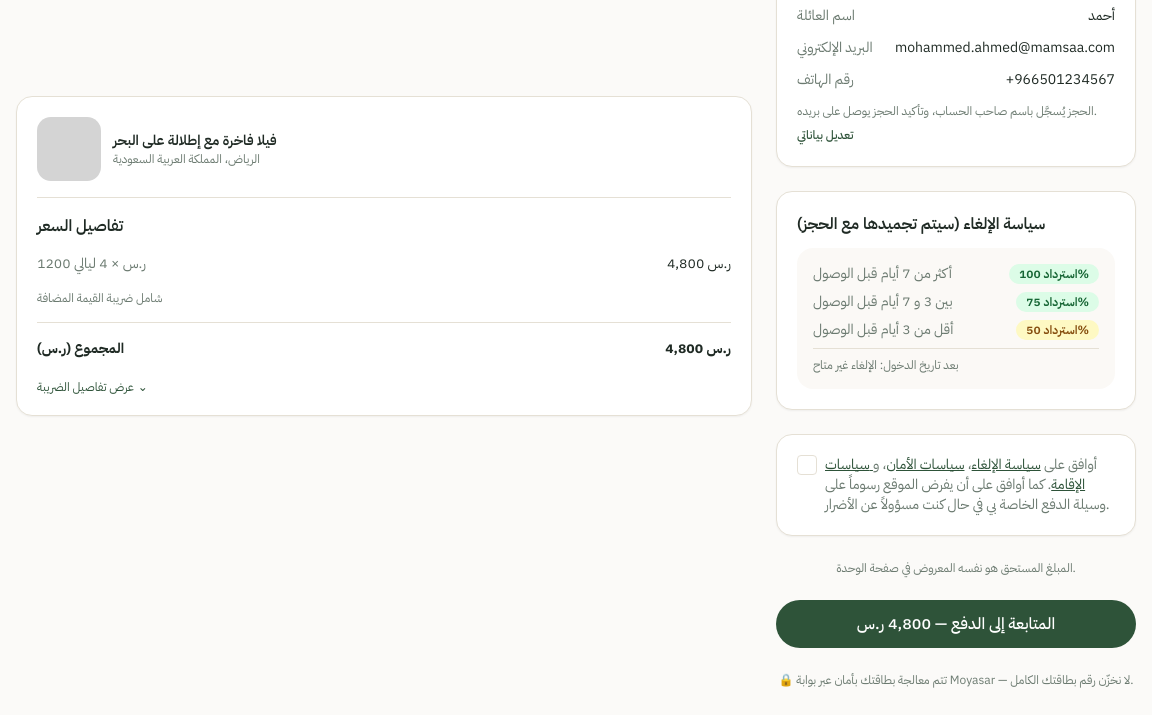
Test: Checkout — a 409 on the dates is an answer, not a failure › shows the dictionary copy when the booking itself is refused for the permit
(page scrolled)
Step 1. Click the checkbox → click(807, 464), box x1=797 y1=454 x2=817 y2=474
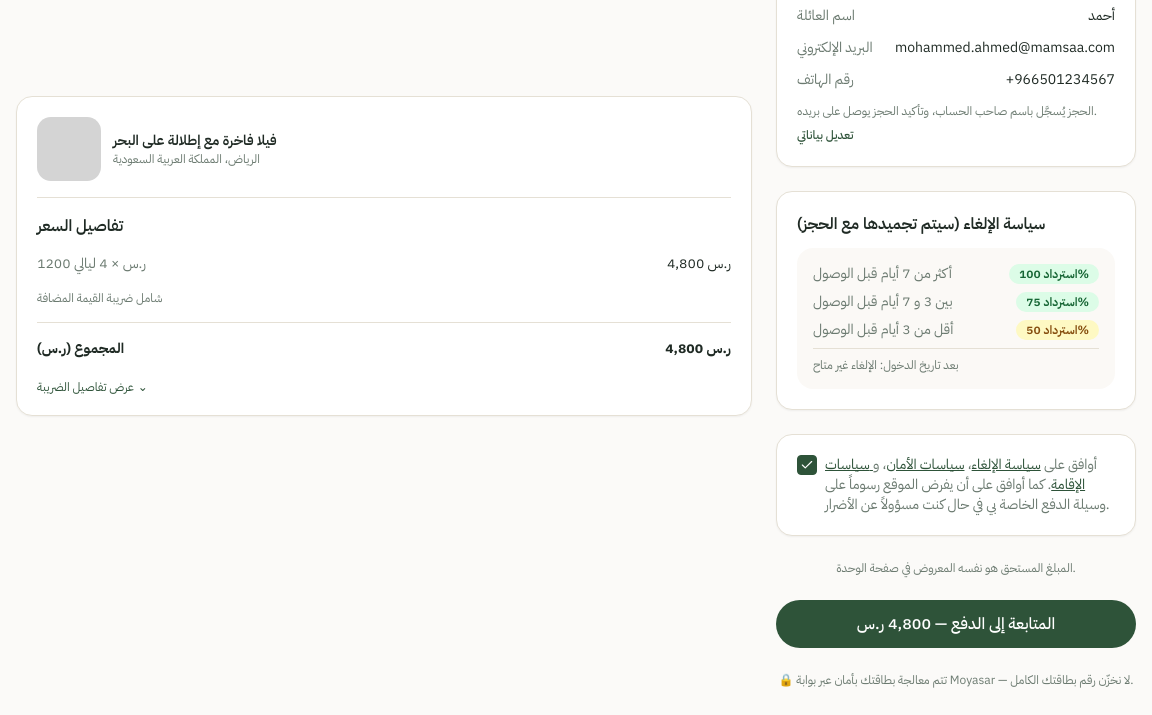
Step 2. Click the button "المتابعة إلى الدفع — 4,800 ر.س" → click(956, 624), box x1=776 y1=600 x2=1136 y2=648
Wait 350 ms
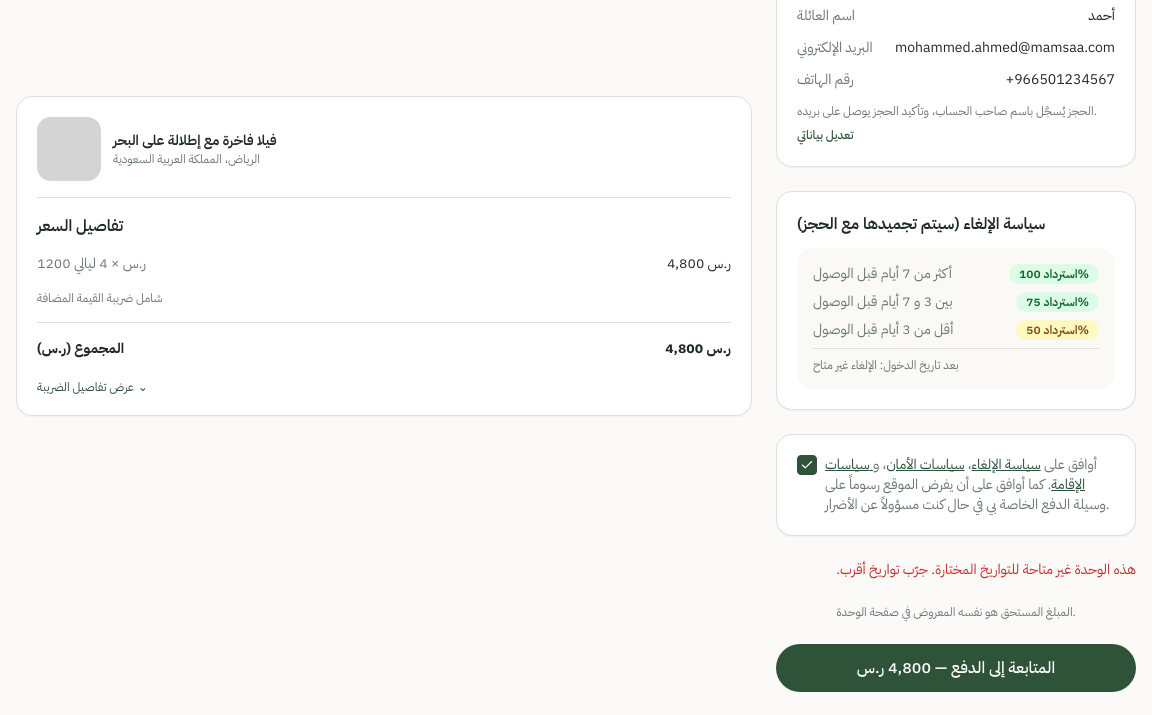
Check: the text "هذه الوحدة غير متاحة للتواريخ المختارة. جرّب تواريخ أقرب." is shown, box x1=836 y1=558 x2=1136 y2=580
